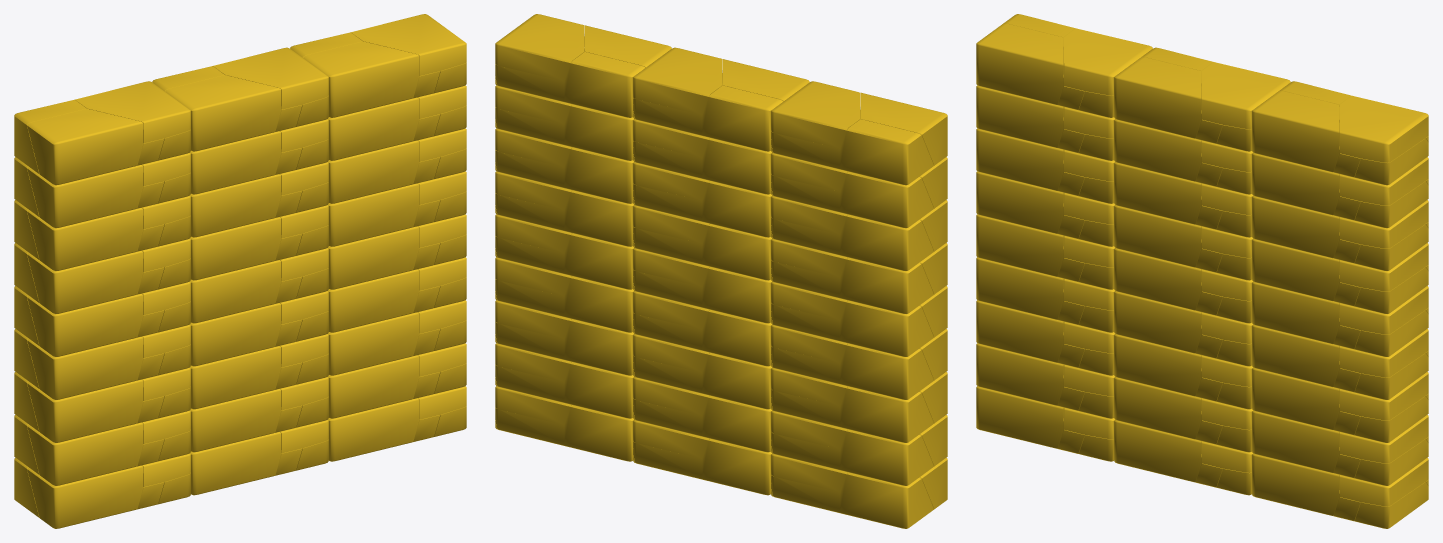
The model's file is Wall.fbx.
3 renders of one model, left to right at view 1: azimuth 30°, elevation 25°; view 2: azimuth 150°, elevation 25°; view 3: azimuth 330°, elevation 25°, orthographic.
Parts seen in each view (by area): view 1: Brick.133, Brick.128, Brick.123, Brick.118, Brick.013, Brick.088, Brick.028, Brick.058, Brick.043, Brick.073, Brick.103, Brick.038 (+80 smaller); view 2: Brick.134, Brick.122, Brick.127, Brick.132, Brick.014, Brick.089, Brick.119, Brick.029, Brick.059, Brick.074, Brick.104, Brick.044 (+80 smaller); view 3: Brick.128, Brick.133, Brick.123, Brick.122, Brick.132, Brick.127, Brick.083, Brick.098, Brick.023, Brick.053, Brick.073, Brick.088 (+72 smaller).
Boxes of the visible parts, left/top/right/bottom form: Brick.133: left=27, top=108, right=143, bottom=185; Brick.128: left=165, top=75, right=281, bottom=151; Brick.123: left=303, top=41, right=419, bottom=117; Brick.118: left=27, top=165, right=143, bottom=228; Brick.013: left=27, top=465, right=143, bottom=528; Brick.088: left=27, top=250, right=143, bottom=313; Brick.028: left=27, top=422, right=143, bottom=485; Brick.058: left=27, top=336, right=143, bottom=399; Brick.043: left=27, top=379, right=143, bottom=442; Brick.073: left=27, top=293, right=143, bottom=356; Brick.103: left=27, top=208, right=143, bottom=270; Brick.038: left=190, top=346, right=281, bottom=409; Brick.134: left=840, top=119, right=933, bottom=185; Brick.122: left=495, top=14, right=584, bottom=81; Brick.127: left=633, top=47, right=722, bottom=114; Brick.132: left=771, top=81, right=860, bottom=148; Brick.014: left=840, top=472, right=933, bottom=528; Brick.089: left=840, top=257, right=933, bottom=313; Brick.119: left=840, top=171, right=933, bottom=228; Brick.029: left=840, top=429, right=933, bottom=485; Brick.059: left=840, top=343, right=933, bottom=399; Brick.074: left=840, top=300, right=933, bottom=356; Brick.104: left=840, top=214, right=933, bottom=270; Brick.044: left=840, top=386, right=933, bottom=442; Brick.128: left=1114, top=57, right=1201, bottom=138; Brick.133: left=976, top=23, right=1063, bottom=104; Brick.123: left=1252, top=91, right=1339, bottom=172; Brick.122: left=1339, top=95, right=1428, bottom=162; Brick.132: left=1063, top=28, right=1152, bottom=95; Brick.127: left=1201, top=62, right=1290, bottom=129; Brick.083: left=1114, top=205, right=1201, bottom=267; Brick.098: left=1114, top=162, right=1201, bottom=224; Brick.023: left=1114, top=377, right=1201, bottom=439; Brick.053: left=1114, top=291, right=1201, bottom=353; Brick.073: left=976, top=214, right=1063, bottom=276; Brick.088: left=976, top=171, right=1063, bottom=233.
Bounding box in the file's own units: 259 × 231 × 45.27.
